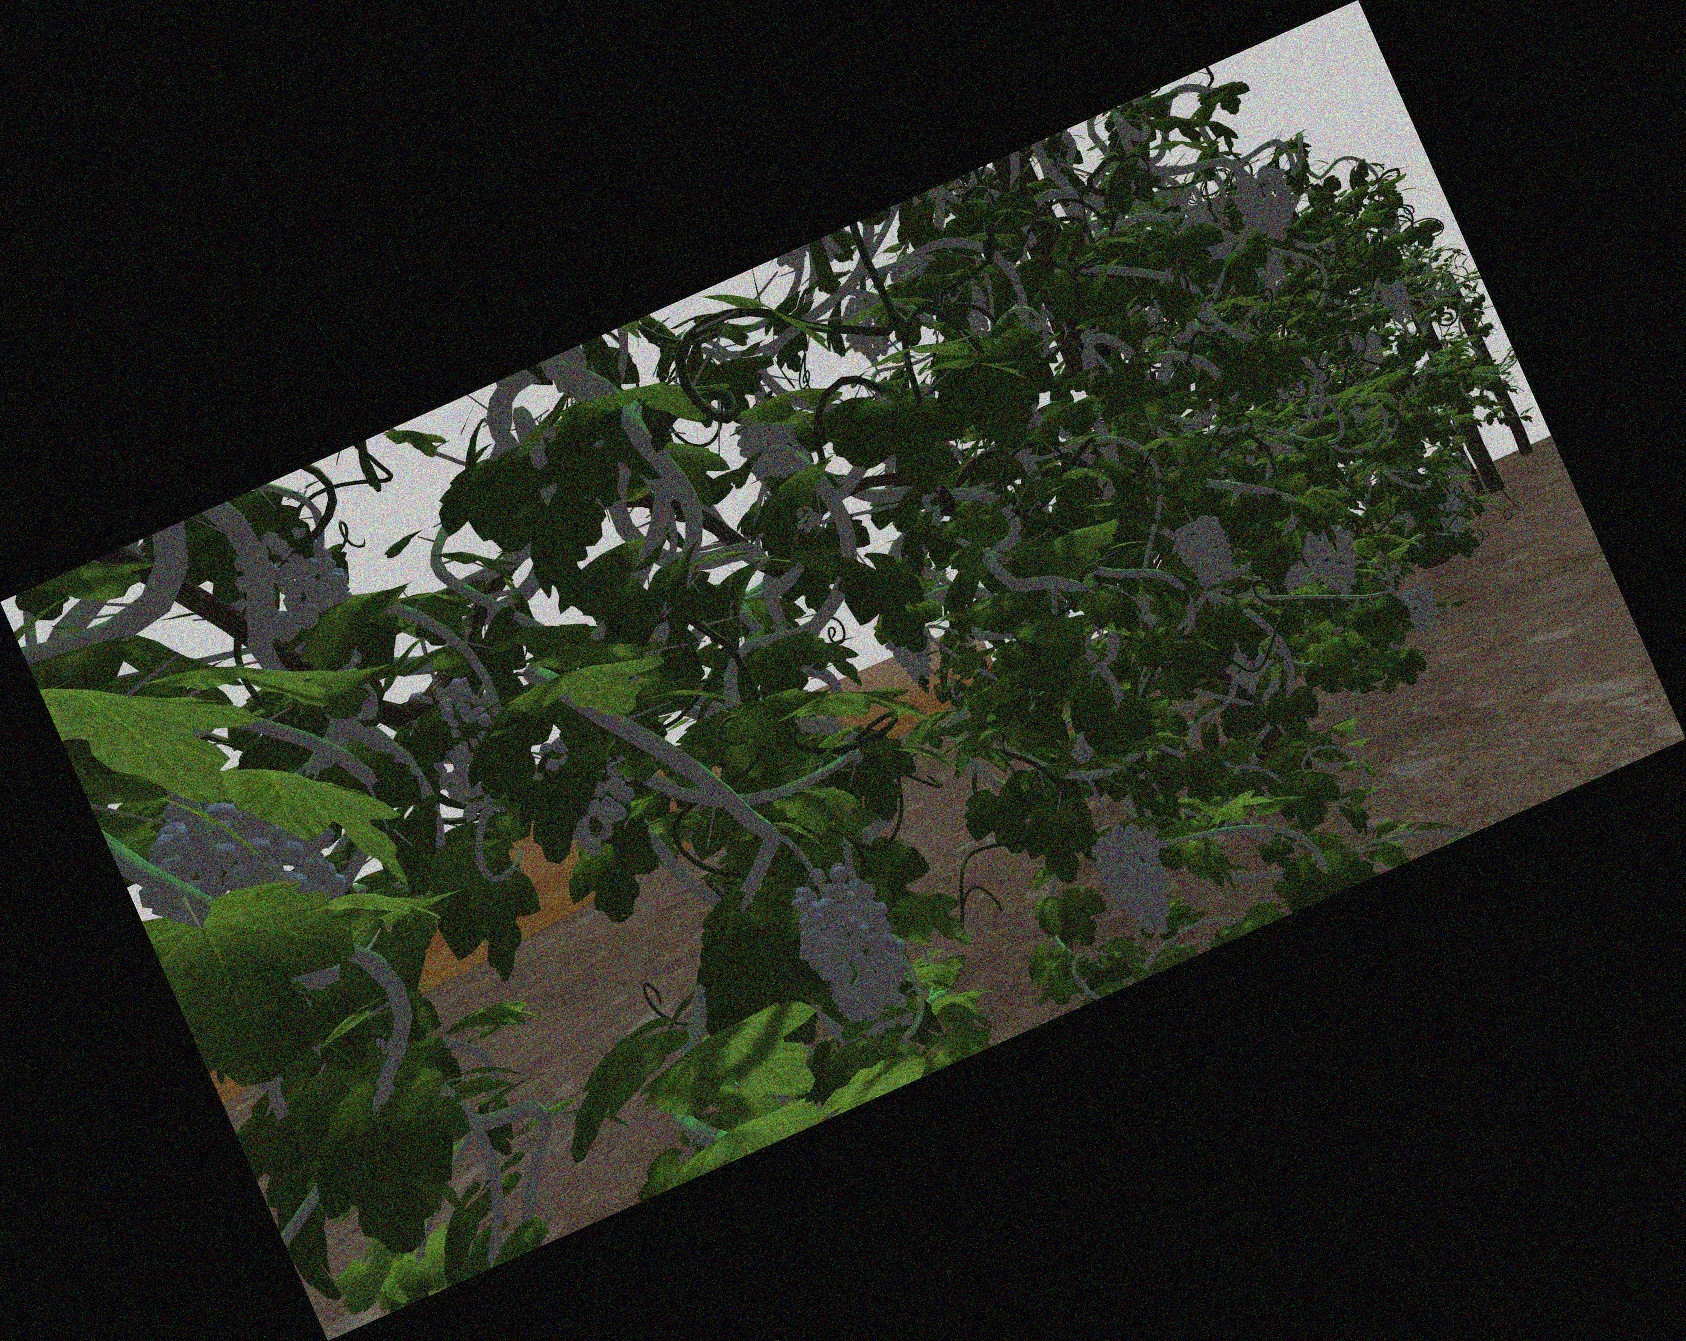grape: (142, 810, 315, 929), (803, 868, 895, 1019), (1100, 828, 1173, 939), (265, 530, 339, 625), (1237, 170, 1299, 242), (1306, 525, 1360, 594), (1181, 519, 1232, 584), (742, 419, 790, 480), (442, 679, 484, 747), (1404, 588, 1440, 634), (1381, 279, 1410, 316)
